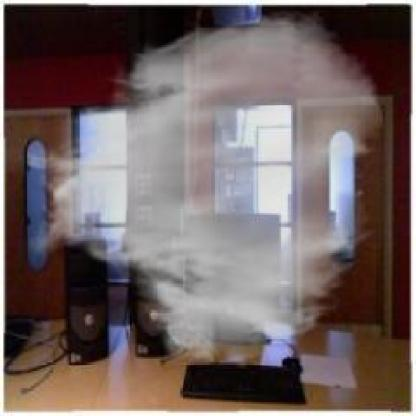Smoke: (26, 7, 387, 366)
